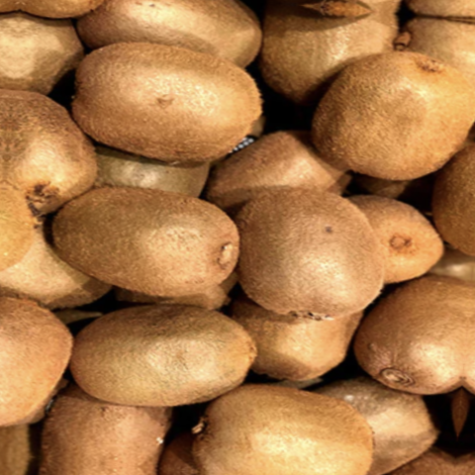kiwi: (218, 178, 398, 355), (53, 32, 273, 176), (71, 280, 270, 438), (294, 32, 475, 194), (36, 176, 253, 309), (197, 368, 388, 475)
